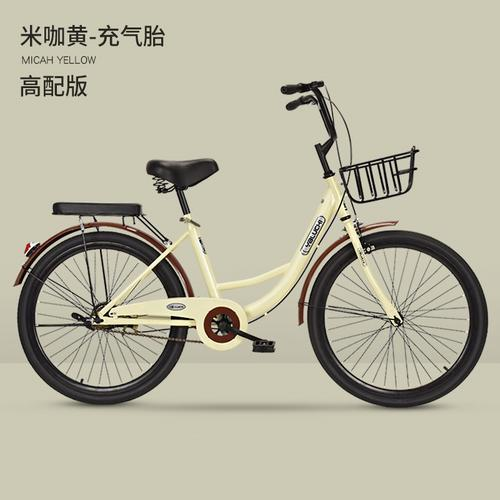单车: (12, 67, 491, 427)
